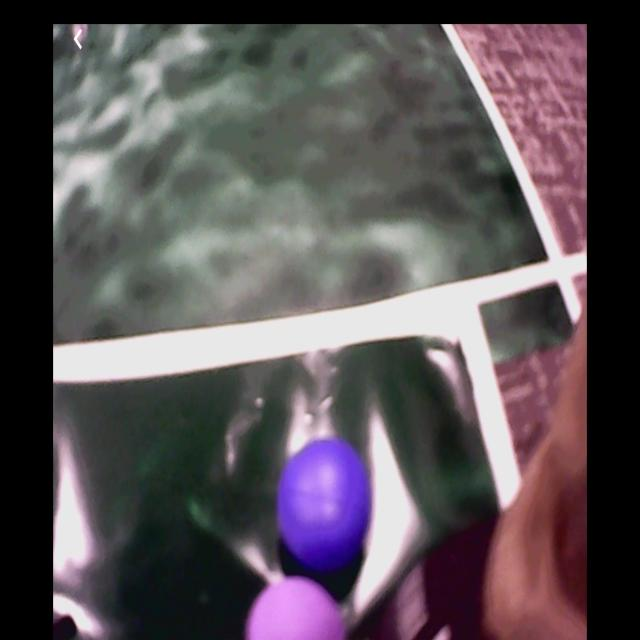ball: (278, 439, 371, 569), (250, 579, 350, 640)
